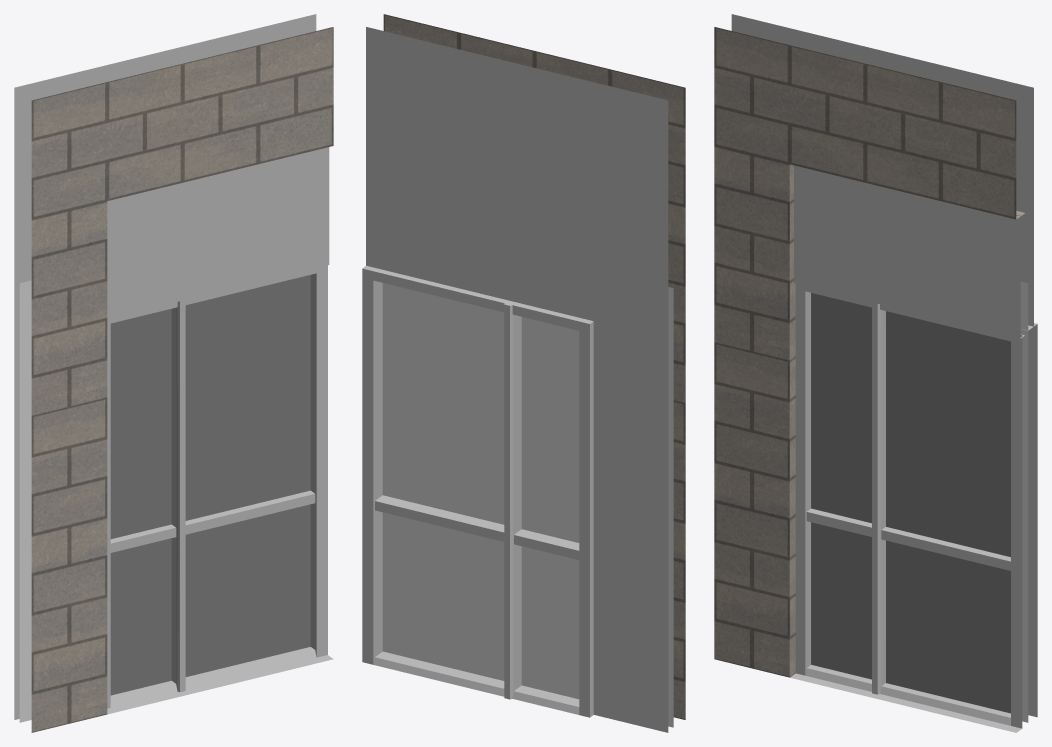
File: WhiteBrick_Window_L.gltf
The picture shows the model from 3 angles, left to right: view 1: azimuth 30°, elevation 25°; view 2: azimuth 150°, elevation 25°; view 3: azimuth 330°, elevation 25°; orthographic projection.
Parts seen in each view (by area): view 1: WhiteBrick_Window_L; view 2: WhiteBrick_Window_L; view 3: WhiteBrick_Window_L.
Part boxes in pixels (x1=…): WhiteBrick_Window_L: x1=14, y1=14, x2=333, y2=732; WhiteBrick_Window_L: x1=362, y1=14, x2=685, y2=732; WhiteBrick_Window_L: x1=714, y1=14, x2=1037, y2=732.
Size of what is drawn, in the model's own units: 2 by 4 by 0.2599.
